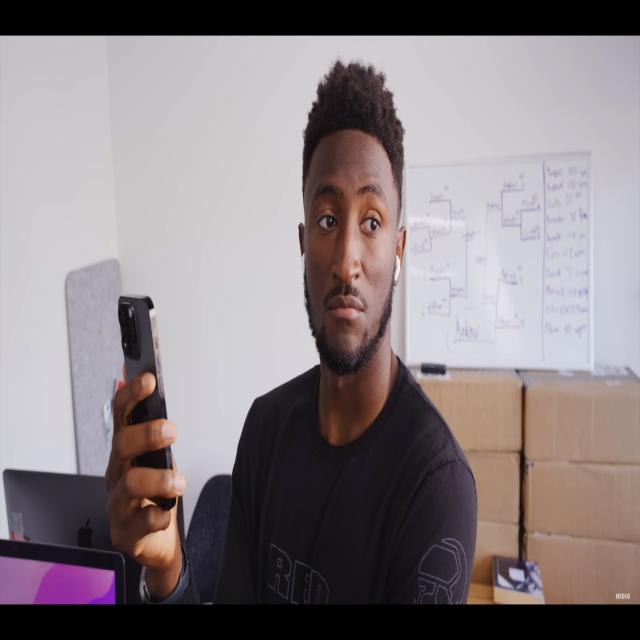airpods: (393, 253, 401, 284), (300, 251, 306, 280)
